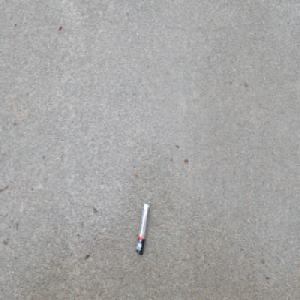Battery: (135, 200, 150, 257)
